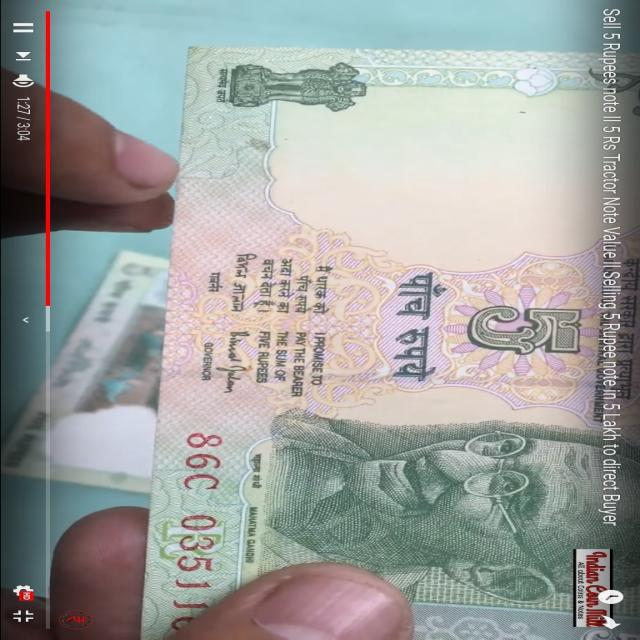5IndianRupees: (149, 49, 640, 637)
